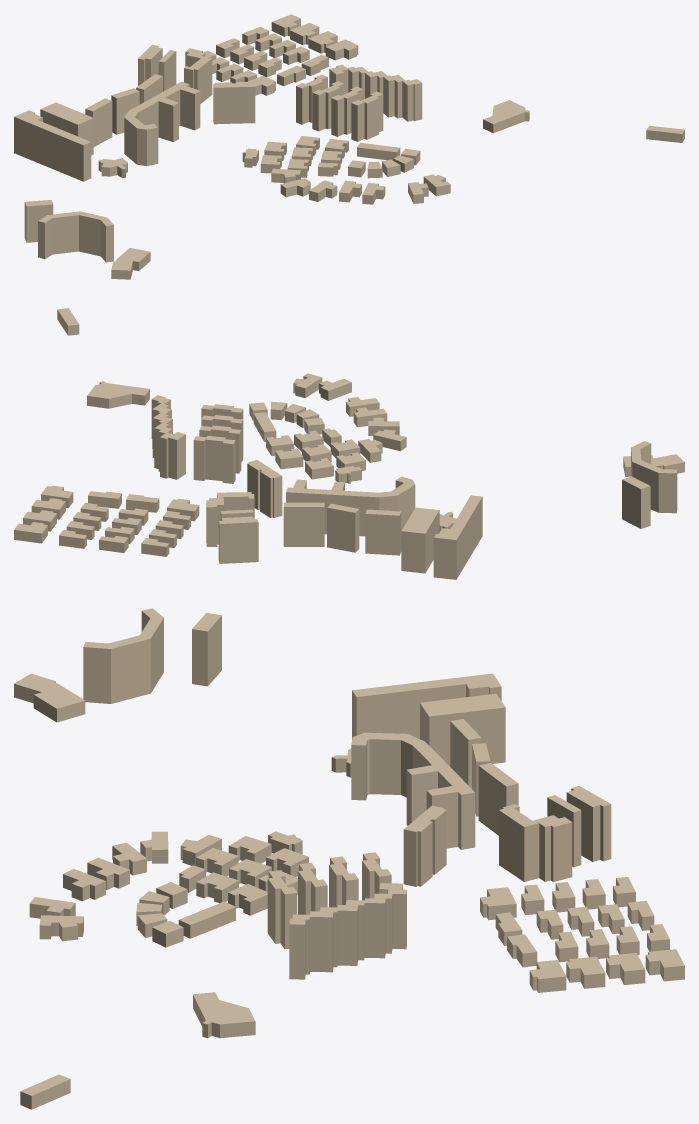
Rendered from 5_4-estimated-coarse.glb.
3 renders of one model, top to bottom at view 1: azimuth 30°, elevation 25°; view 2: azimuth 150°, elevation 25°; view 3: azimuth 270°, elevation 25°, orthographic. The views are drawn at different scales.
Bounding box in the file's own units: 836 × 48 × 531.
